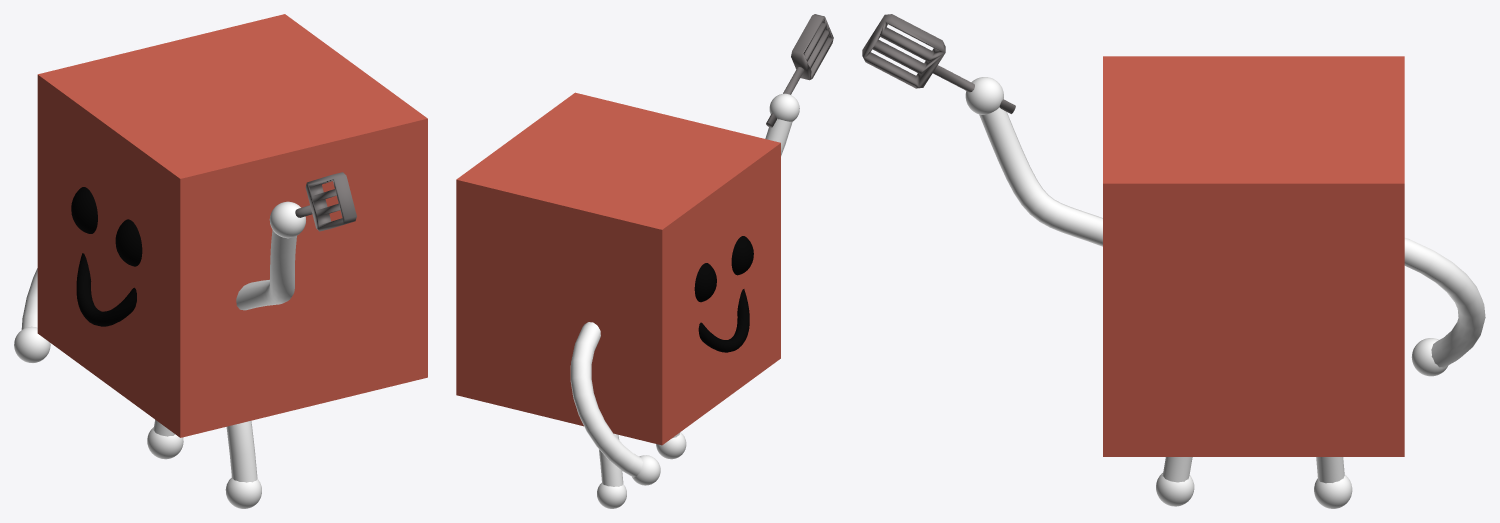
File: kimchi.glb
3 renders of one model, left to right at view 1: azimuth 30°, elevation 25°; view 2: azimuth 150°, elevation 25°; view 3: azimuth 270°, elevation 25°, orthographic. The views are drawn at different scales.
Parts seen in each view (by area): view 1: Cube, 팔.001, 뒤집개.002, mouth.002, 팔.004, hand.001, hand. L.002, Sphere.003, Sphere.001, hand.004, hand.003, 팔 L.002; view 2: Cube, 팔 L.002, 뒤집개.002, mouth.002, Sphere.003, hand.001, Sphere.001, hand.003, 팔.003, hand. L.002, hand.004, 팔.001; view 3: Cube, 팔.001, 팔 L.002, 뒤집개.002, hand.001, hand.003, hand.004, hand. L.002, 팔.003.
Part boxes in pixels (box(x1,y1,x2,y2)): Cube: box(37, 14, 427, 437); 팔.001: box(236, 229, 296, 310); 뒤집개.002: box(295, 172, 356, 231); mouth.002: box(76, 253, 136, 326); 팔.004: box(226, 421, 257, 482); hand.001: box(269, 201, 305, 238); hand. L.002: box(14, 326, 50, 362); Sphere.003: box(115, 219, 142, 266); Sphere.001: box(71, 187, 97, 233); hand.004: box(225, 477, 261, 508); hand.003: box(147, 427, 183, 459); 팔 L.002: box(21, 268, 37, 329); Cube: box(456, 92, 780, 445); 팔 L.002: box(570, 322, 642, 477); 뒤집개.002: box(766, 14, 833, 127); mouth.002: box(698, 289, 749, 352); Sphere.003: box(731, 236, 753, 275); hand.001: box(769, 93, 799, 121); Sphere.001: box(694, 263, 716, 302); hand.003: box(597, 483, 626, 508); 팔.003: box(599, 433, 623, 486); hand. L.002: box(632, 455, 660, 485); hand.004: box(656, 432, 686, 459); 팔.001: box(765, 119, 792, 155); Cube: box(1103, 56, 1404, 456); 팔.001: box(979, 107, 1102, 246); 팔 L.002: box(1404, 238, 1485, 367); 뒤집개.002: box(862, 14, 1015, 113); hand.001: box(965, 77, 1003, 114); hand.003: box(1314, 475, 1352, 508); hand.004: box(1156, 472, 1194, 506); hand. L.002: box(1411, 338, 1448, 376); 팔.003: box(1316, 457, 1344, 483).
Bounding box in the file's own units: 0.6114 × 0.9673 × 1.16.
